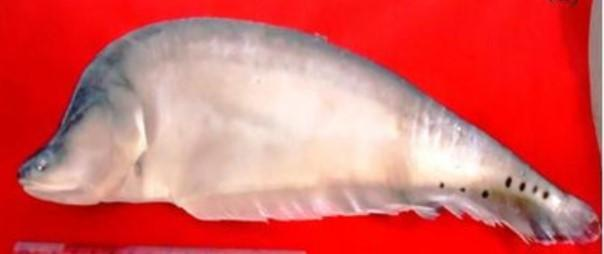Knifefish: (20, 14, 598, 247)
